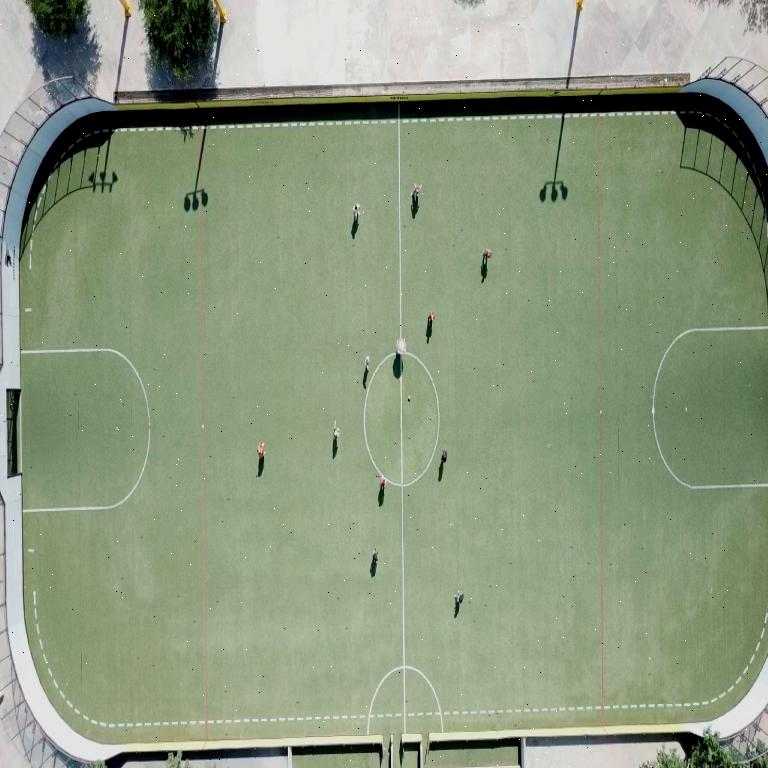AC: (21, 348, 149, 511), (652, 326, 767, 489)
B: (409, 396, 410, 400)
MC: (399, 362, 405, 732)
P: (396, 339, 407, 354), (352, 203, 360, 222), (412, 183, 420, 200), (454, 590, 462, 605), (483, 248, 491, 261), (334, 422, 339, 442), (257, 443, 263, 459), (379, 476, 385, 491), (427, 312, 434, 324), (372, 549, 377, 564), (364, 356, 369, 371), (441, 450, 446, 463)
